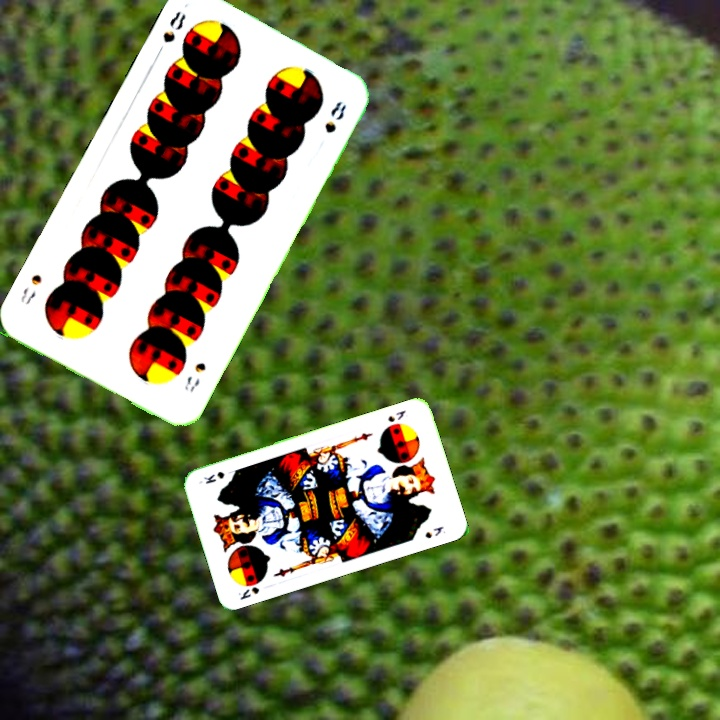S8: (152, 7, 189, 59), (180, 358, 209, 395)
SK: (234, 583, 262, 603), (384, 406, 408, 425)
